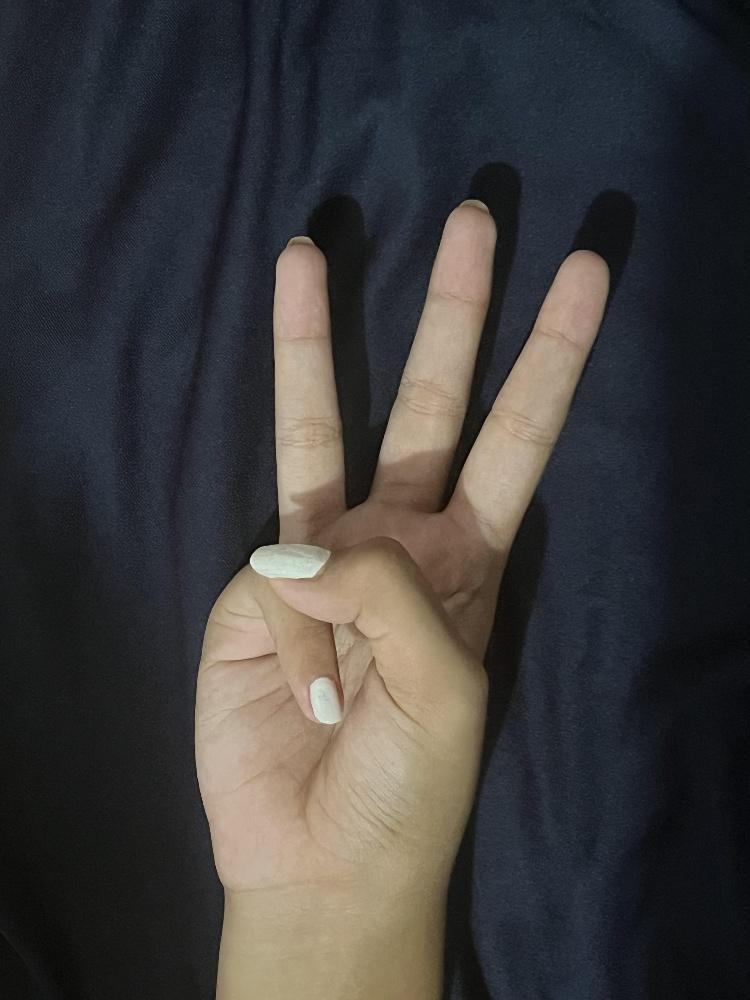w: (189, 194, 611, 883)
